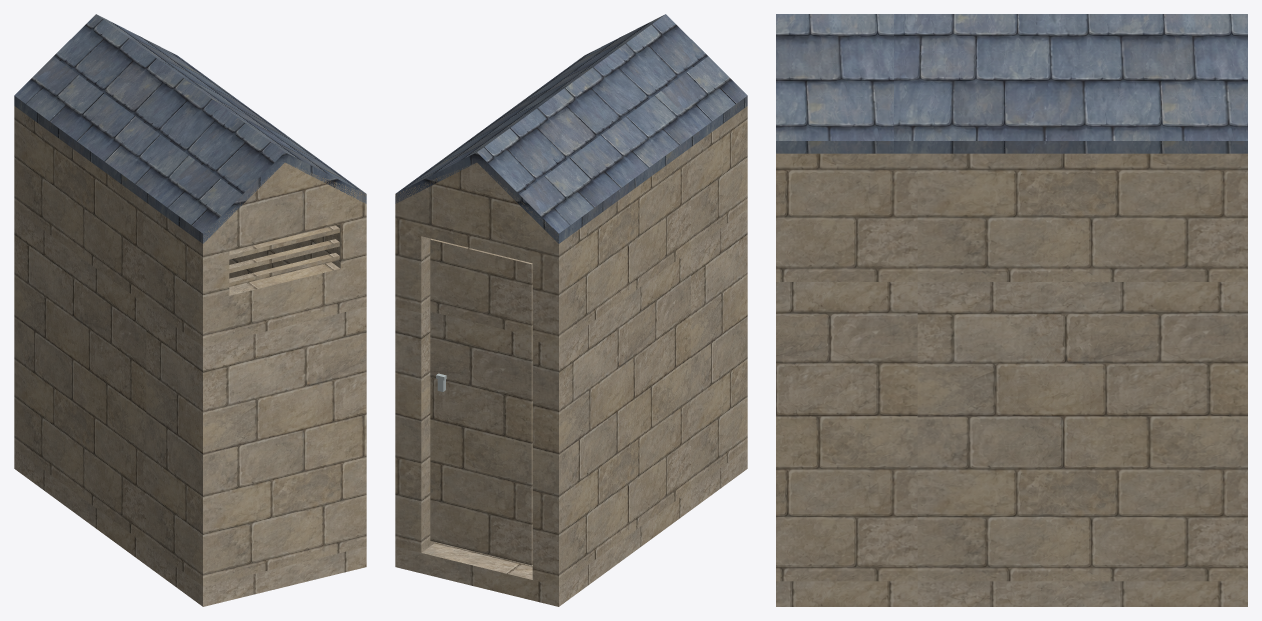
The model's file is bath-outhouse-masonry.gltf.
3 views of the same model, side by side, from view 1: azimuth 30°, elevation 25°; view 2: azimuth 150°, elevation 25°; view 3: azimuth 270°, elevation 25° (orthographic). The views are drawn at different scales.
Visible parts, largest first — view 1: exterior-stone, roof-slate, floor-stone, gable-stone; view 2: exterior-stone, roof-slate, door-stone, floor-stone, gable-stone; view 3: exterior-stone, roof-slate, floor-stone.
Boxes of the visible parts, x1=… form: exterior-stone: x1=14, y1=106, x2=366, y2=586; roof-slate: x1=14, y1=14, x2=366, y2=243; floor-stone: x1=14, y1=448, x2=366, y2=606; gable-stone: x1=203, y1=162, x2=366, y2=243; exterior-stone: x1=395, y1=106, x2=747, y2=586; roof-slate: x1=395, y1=14, x2=747, y2=243; door-stone: x1=430, y1=238, x2=532, y2=565; floor-stone: x1=395, y1=448, x2=747, y2=606; gable-stone: x1=395, y1=162, x2=558, y2=243; exterior-stone: x1=776, y1=153, x2=1247, y2=581; roof-slate: x1=776, y1=14, x2=1247, y2=153; floor-stone: x1=776, y1=581, x2=1247, y2=606.
Size of the model in its own units: 1 by 2.54 by 2.
5 materials, 2 textured.
